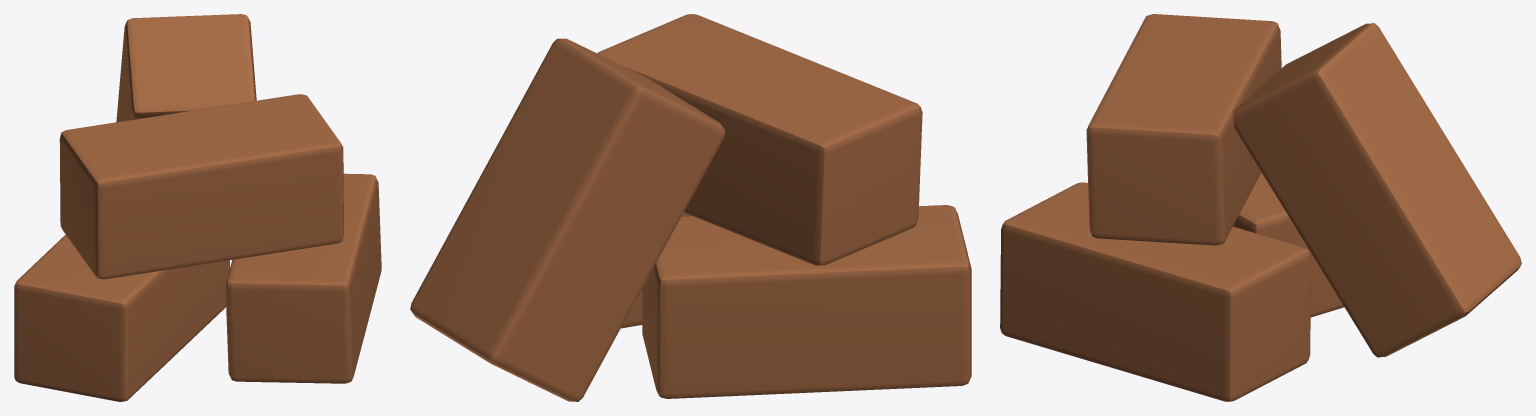
The model's file is brick cluster 1.fbx.
3 views of the same model, side by side, from view 1: azimuth 30°, elevation 25°; view 2: azimuth 150°, elevation 25°; view 3: azimuth 270°, elevation 25° (orthographic). The views are drawn at different scales.
Parts seen in each view (by area): view 1: polySurface3; view 2: polySurface3; view 3: polySurface3.
Boxes of the visible parts, x1,y1,x2,y2 form: polySurface3: [14, 14, 381, 401]; polySurface3: [410, 14, 971, 401]; polySurface3: [1000, 14, 1521, 401].
Size of the model in its own units: 0.6923 by 0.4541 by 0.7402.
